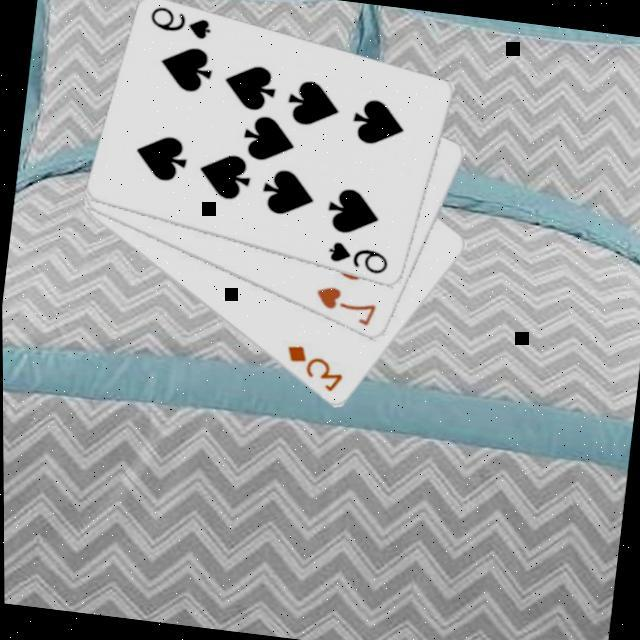3D: (280, 339, 350, 396)
7H: (310, 280, 383, 330)
9S: (146, 1, 218, 44), (324, 236, 394, 278)
